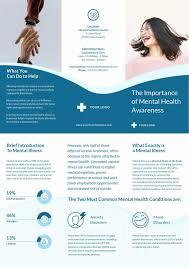paper: (1, 0, 189, 266)
